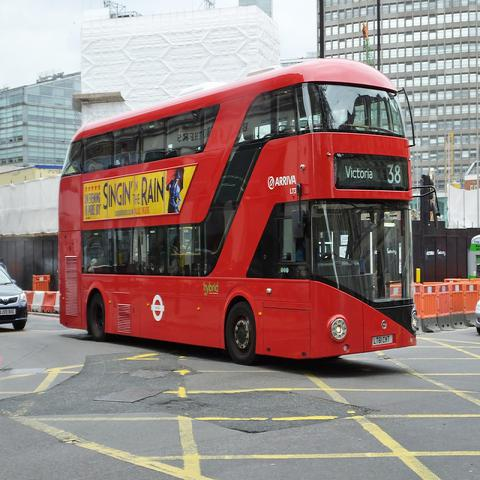bus: (59, 56, 417, 365)
car: (0, 259, 29, 333), (475, 299, 479, 337)
